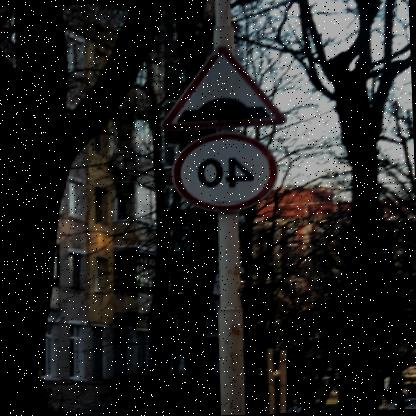speedlimit: (174, 130, 283, 212)
